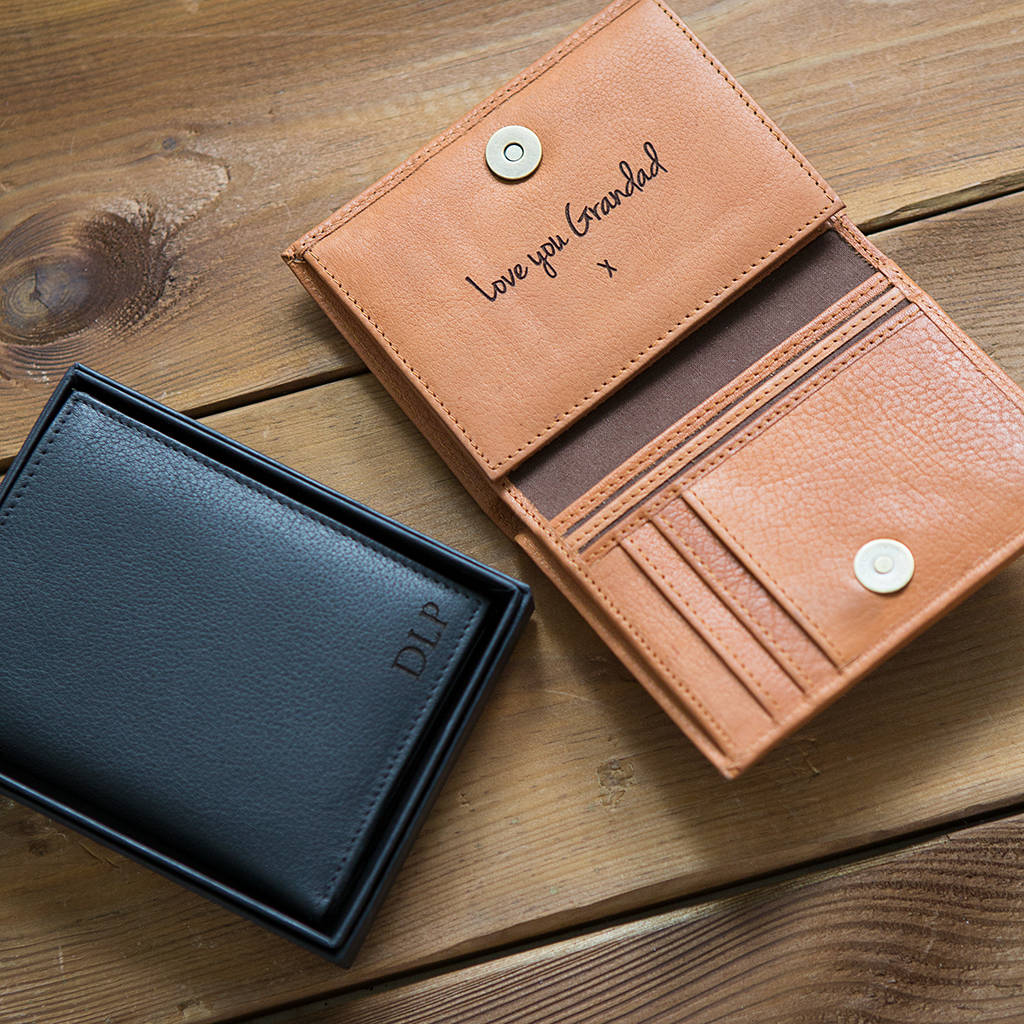monedero: (279, 2, 1024, 788), (1, 388, 496, 936)
